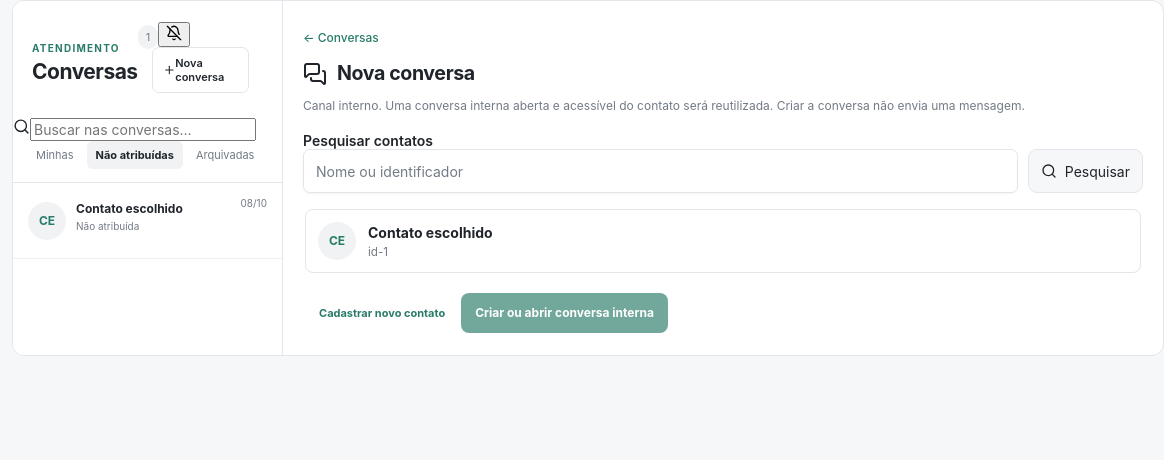
it: M1 manual internal conversation flow › opens an existing internal conversation with clear reuse feedback
The image size is (1164, 460).
Click the button with aria-label "Selecionar Contato escolhido". click: coordinates (337, 241)
box: [305,209,1141,273]
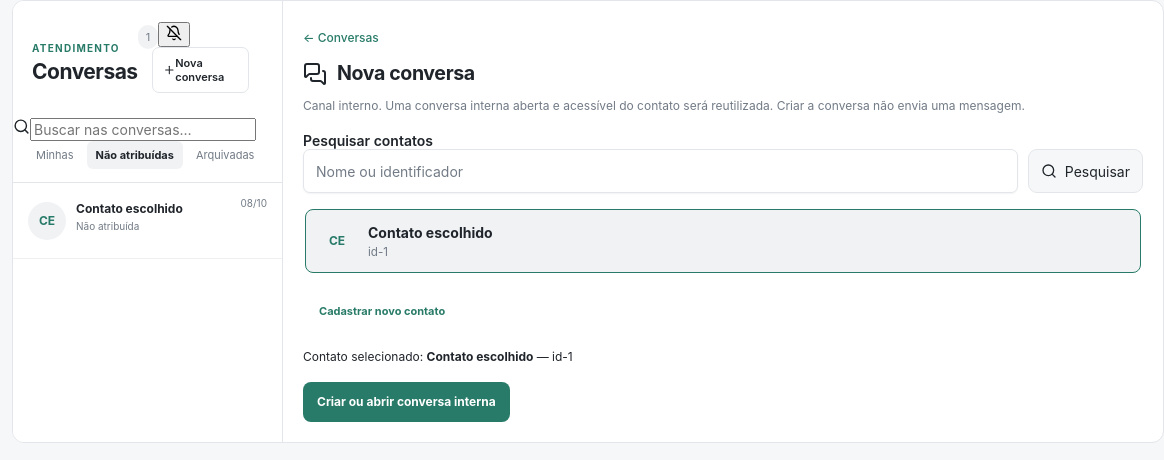
Click the button "Criar ou abrir conversa interna". click: coordinates (406, 402)
box: [303,382,510,422]
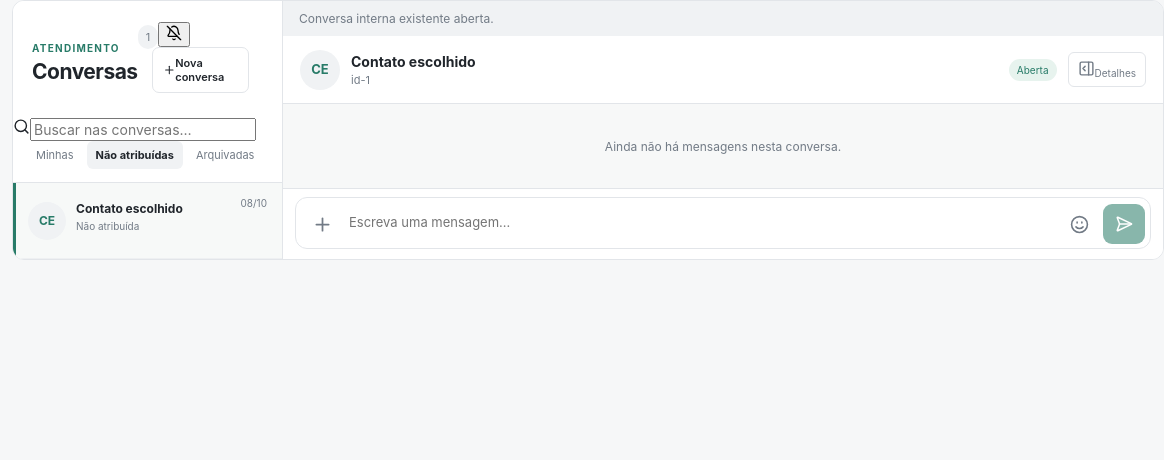
Expected: the text "Conversa interna existente aberta." is shown, [283,1,1163,36]
